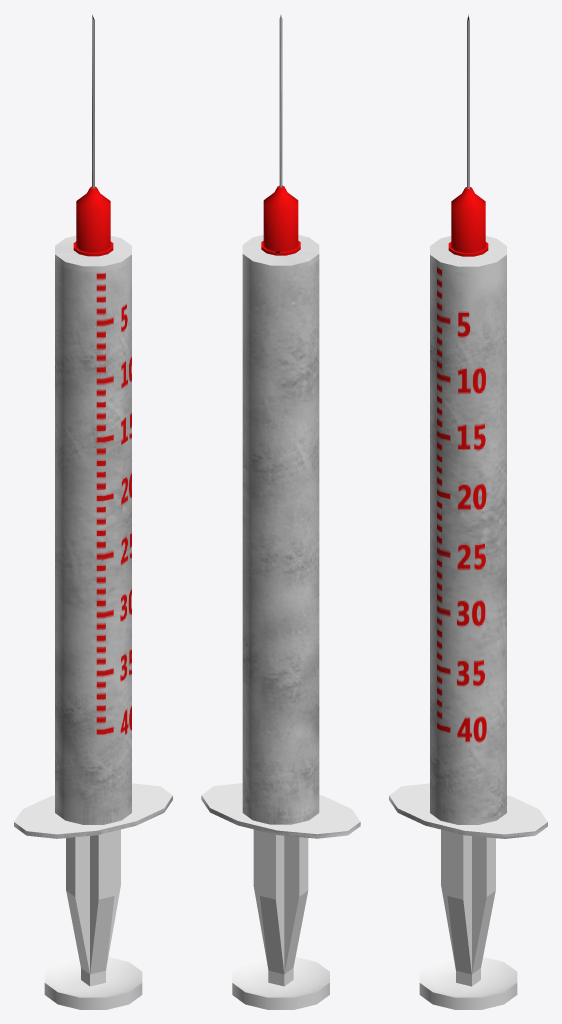
Rendered from injection.fbx.
3 renders of one model, left to right at view 1: azimuth 30°, elevation 25°; view 2: azimuth 150°, elevation 25°; view 3: azimuth 330°, elevation 25°, orthographic.
Parts seen in each view (by area): view 1: Object_2; view 2: Object_2; view 3: Object_2.
Part boxes in pixels (x1,y1,x2,y2): Object_2: [14, 14, 172, 1009]; Object_2: [201, 15, 360, 1009]; Object_2: [389, 14, 547, 1009].
Bounding box in the file's own units: 2967 × 18886 × 1713.
1 material, 1 textured.
